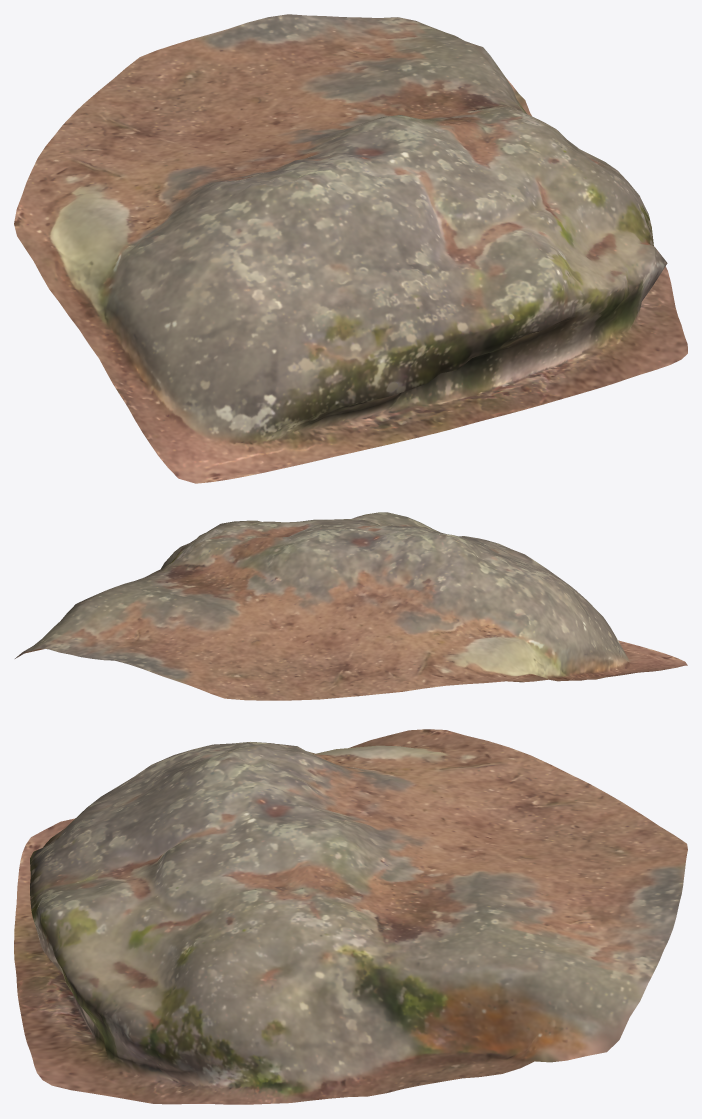
Rendered from Rock_09.FBX.
3 views of the same model, one above another, from view 1: azimuth 30°, elevation 25°; view 2: azimuth 150°, elevation 25°; view 3: azimuth 270°, elevation 25° (orthographic). The views are drawn at different scales.
Parts seen in each view (by area): view 1: Rock09_LOD0; view 2: Rock09_LOD0; view 3: Rock09_LOD0.
Boxes of the visible parts, x1=… form: Rock09_LOD0: x1=14, y1=14, x2=687, y2=483; Rock09_LOD0: x1=15, y1=512, x2=687, y2=700; Rock09_LOD0: x1=14, y1=729, x2=687, y2=1104.
Size of what is drawn, in the model's own units: 6.7 by 6.49 by 1.95.
Materials: 1 (1 with a texture image).
